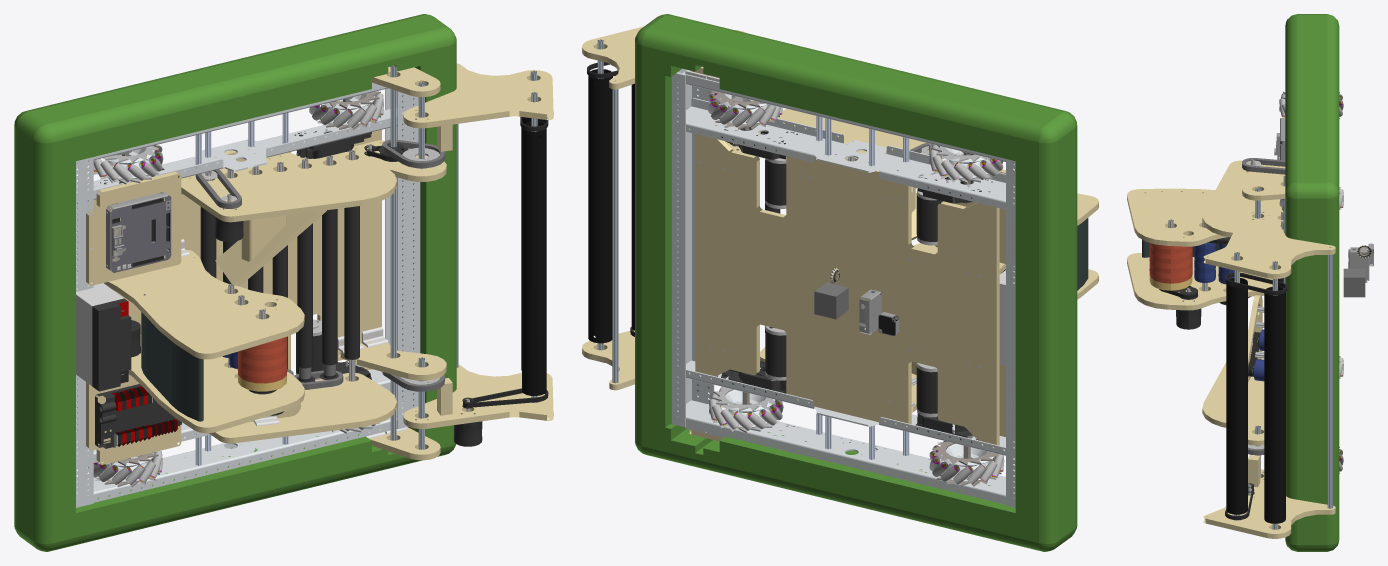
The picture shows the model from 3 angles, left to right: view 1: azimuth 30°, elevation 25°; view 2: azimuth 150°, elevation 25°; view 3: azimuth 270°, elevation 25°; orthographic projection. The views are drawn at different scales.
Parts seen in each view (by area): view 1: part16, part15, part4, part10, part25, part5, part0, part21, part24, part26, part13, part14 (+7 smaller); view 2: part16, part15, part4, part25, part0, part10, part5, part24, part7, part3, part13, part14 (+3 smaller); view 3: part16, part15, part25, part24, part22, part14, part19, part17, part11, part10, part0, part9 (+1 smaller).
Part boxes in pixels (x1,y1,x2,y2): part16: (14,14,456,551); part15: (77,63,553,464); part4: (76,82,420,507); part10: (131,143,482,446); part25: (521,117,546,395); part5: (92,129,371,448); part0: (88,91,383,484); part21: (141,294,203,421); part24: (390,65,537,453); part26: (111,196,170,272); part13: (76,67,407,438); part14: (195,139,444,391); part16: (635,14,1077,551); part15: (582,26,1098,448); part4: (671,68,1015,507); part25: (588,69,634,343); part0: (708,90,1004,484); part10: (697,128,942,413); part5: (721,126,992,442); part24: (597,39,618,383); part7: (816,116,909,459); part3: (711,91,1001,486); part13: (685,70,1014,437); part14: (715,102,929,319); part16: (1285,14,1339,551); part15: (1127,160,1335,538); part25: (1226,278,1285,523); part24: (1234,176,1332,529); part22: (1149,243,1192,283); part14: (1242,158,1365,455); part19: (1194,242,1264,381); part17: (1160,141,1286,519); part11: (1274,118,1373,282); part10: (1159,171,1283,492); part0: (1279,91,1343,473); part9: (1168,158,1283,495).
Bounding box in the file's own units: 1.18 × 0.9538 × 0.5793.
